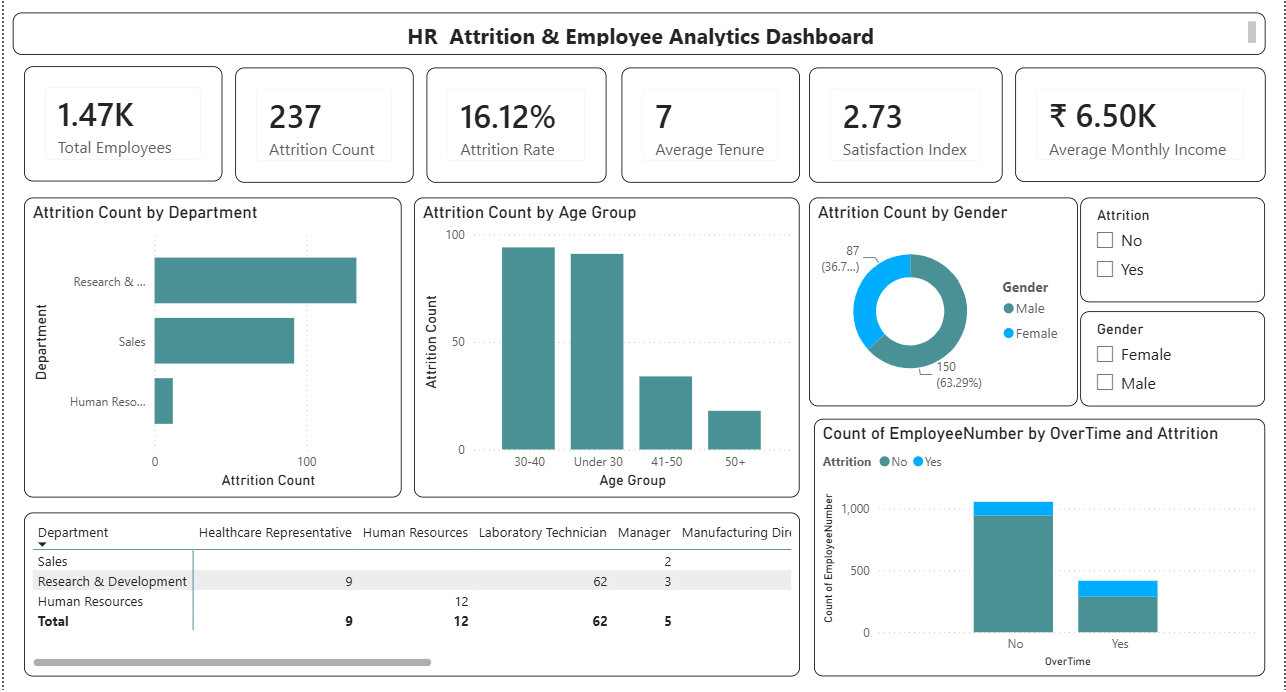

What the dashboard file says about the page in this screenshot:
{"tool":"powerbi","page":{"name":"Page 1","canvas":[1280,720],"ordinal":0},"visuals":[{"type":"cardVisual","fields":{"Data":["Employee_Profile.Total Employees"]},"box":[20,66.2,198.8,115],"z":0},{"type":"textbox","box":[8.8,12.5,1252.5,42.5],"z":1000},{"type":"cardVisual","fields":{"Data":["Employee_Profile.Attrition Count"]},"box":[231.2,67.5,178.8,115],"z":2000},{"type":"cardVisual","fields":{"Data":["Employee_Profile.Attrition Rate"]},"box":[422.5,67.5,180,115],"z":3000},{"type":"cardVisual","fields":{"Data":["Employee_Profile.Average Tenure"]},"box":[617.5,67.5,178.8,115],"z":4000},{"type":"cardVisual","fields":{"Data":["Employee_Profile.Satisfaction Index"]},"box":[805,67.5,193.8,115],"z":5000},{"type":"clusteredBarChart","fields":{"Category":["Department.Department"],"Y":["Employee_Profile.Attrition Count"]},"box":[20.2,197.6,377.4,300],"z":6000},{"type":"donutChart","fields":{"Category":["Employee_Profile.Gender"],"Y":["Employee_Profile.Attrition Count"]},"box":[805,197.5,268.8,208.8],"z":7000},{"type":"columnChart","fields":{"Category":["Employee_Profile.Age Group"],"Y":["Employee_Profile.Attrition Count"]},"box":[409.5,197.6,385.7,300],"z":8000},{"type":"slicer","fields":{"Values":["Employee_Profile.Gender"]},"box":[1076.2,311.2,185,95],"z":10000},{"type":"slicer","fields":{"Values":["Employee_Profile.Attrition"]},"box":[1076.2,197.5,185,105],"z":11000},{"type":"cardVisual","fields":{"Data":["Employee_Profile.Average Monthly Income"]},"box":[1010.7,67.9,250,114.3],"z":12000},{"type":"pivotTable","fields":{"Rows":["Department.Department"],"Columns":["Employee_Profile.JobRole"],"Values":["Employee_Profile.Attrition Count"]},"box":[20,512.5,776.2,163.8],"z":13001},{"type":"columnChart","fields":{"Series":["Employee_Profile.Attrition"],"Y":["CountNonNull(Employee_Profile.EmployeeNumber)"],"Category":["Survey_Scores.OverTime"]},"box":[810,418.8,451.2,257.5],"z":13002}]}

Visuals, with their boxes in screenshot pixels (x1, y1, x2, y2):
cardVisual - Employee_Profile.Total Employees: bbox=[36, 65, 232, 178]
textbox: bbox=[25, 12, 1258, 54]
cardVisual - Employee_Profile.Attrition Count: bbox=[244, 66, 420, 180]
cardVisual - Employee_Profile.Attrition Rate: bbox=[433, 66, 610, 180]
cardVisual - Employee_Profile.Average Tenure: bbox=[625, 66, 801, 180]
cardVisual - Employee_Profile.Satisfaction Index: bbox=[809, 66, 1000, 180]
clusteredBarChart - Department.Department x Employee_Profile.Attrition Count: bbox=[37, 195, 408, 490]
donutChart - Employee_Profile.Gender x Employee_Profile.Attrition Count: bbox=[809, 194, 1074, 400]
columnChart - Employee_Profile.Age Group x Employee_Profile.Attrition Count: bbox=[420, 195, 800, 490]
slicer - Employee_Profile.Gender: bbox=[1076, 306, 1258, 400]
slicer - Employee_Profile.Attrition: bbox=[1076, 194, 1258, 298]
cardVisual - Employee_Profile.Average Monthly Income: bbox=[1012, 67, 1258, 179]
pivotTable - Department.Department x Employee_Profile.JobRole: bbox=[36, 505, 801, 666]
columnChart - Employee_Profile.Attrition x CountNonNull(Employee_Profile.EmployeeNumber): bbox=[814, 412, 1258, 666]
